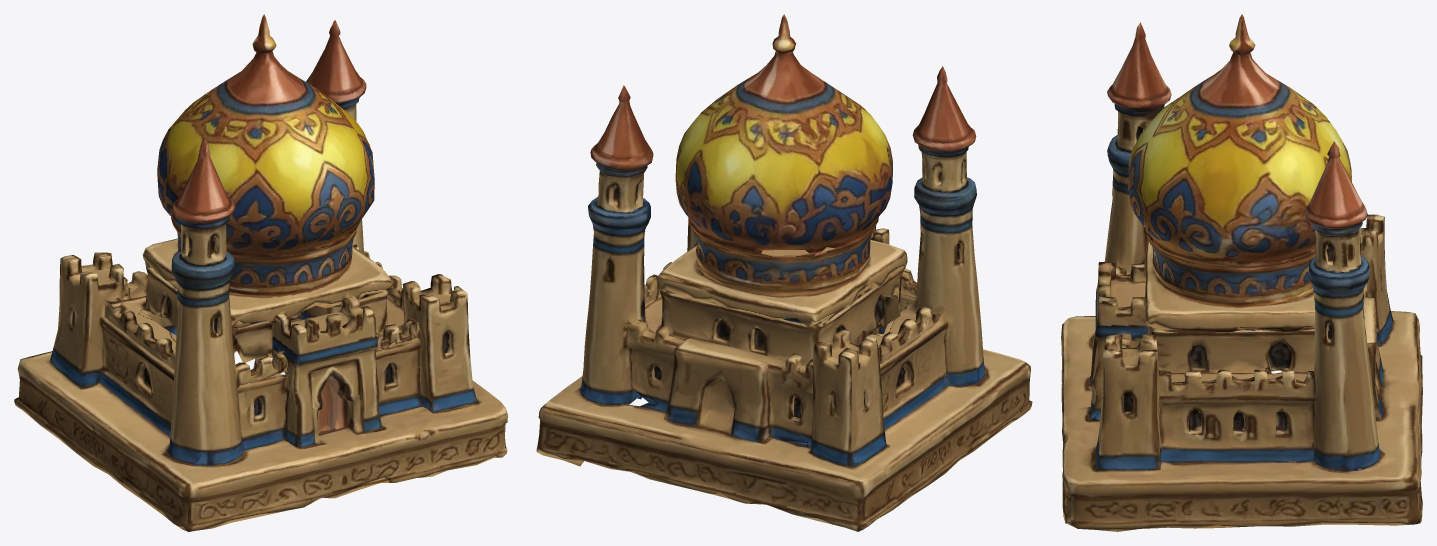
File: palace.glb
3 renders of one model, left to right at view 1: azimuth 30°, elevation 25°; view 2: azimuth 150°, elevation 25°; view 3: azimuth 270°, elevation 25°, orthographic. The views are drawn at different scales.
Parts seen in each view (by area): view 1: world; view 2: world; view 3: world.
Part boxes in pixels (x1,y1,x2,y2): world: (14,14,507,531); world: (536,14,1032,531); world: (1061,14,1422,531).
Size of the model in its own units: 0.625 by 0.7537 by 0.5691.
1 material, 1 textured.
